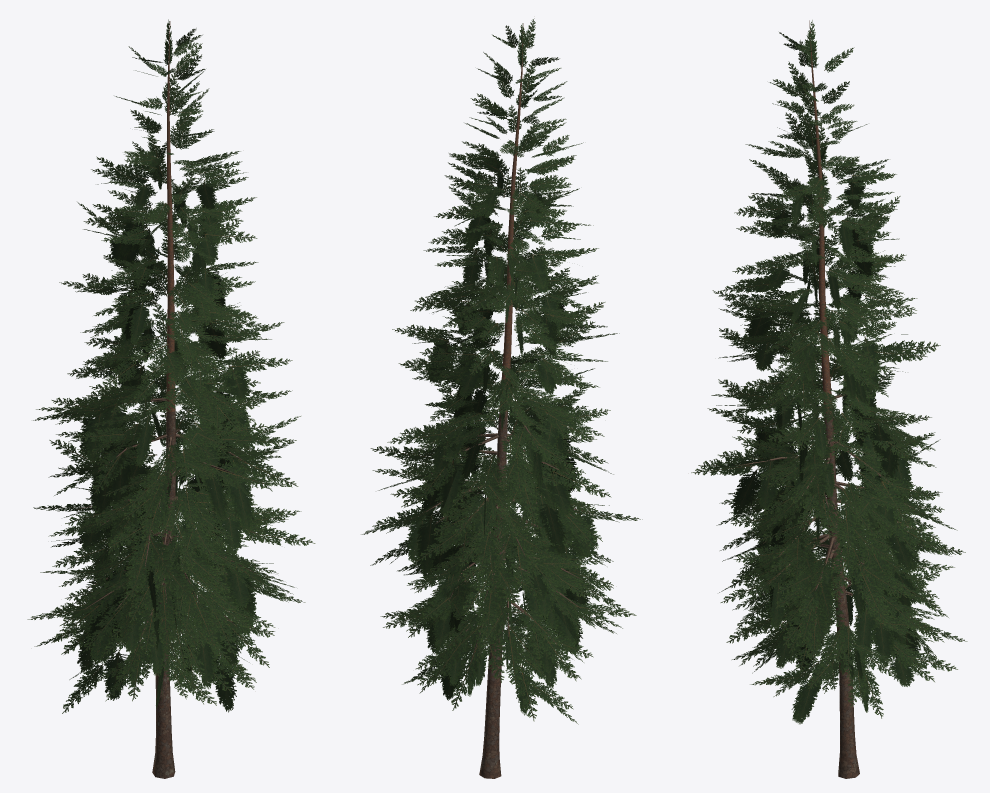
The model's file is spruce_b_LOD1.glb.
The picture shows the model from 3 angles, left to right: view 1: azimuth 30°, elevation 25°; view 2: azimuth 150°, elevation 25°; view 3: azimuth 270°, elevation 25°; orthographic projection. The views are drawn at different scales.
Parts seen in each view (by area): view 1: Spruce_B_LOD1_Foliage, Spruce_B_LOD1_Bark; view 2: Spruce_B_LOD1_Foliage, Spruce_B_LOD1_Bark; view 3: Spruce_B_LOD1_Foliage, Spruce_B_LOD1_Bark.
Part boxes in pixels (x1,y1,x2,y2): Spruce_B_LOD1_Foliage: [27, 19, 315, 713]; Spruce_B_LOD1_Bark: [76, 21, 261, 778]; Spruce_B_LOD1_Foliage: [361, 18, 642, 724]; Spruce_B_LOD1_Bark: [412, 23, 593, 778]; Spruce_B_LOD1_Foliage: [691, 20, 967, 724]; Spruce_B_LOD1_Bark: [738, 20, 923, 778].
Size of the model in its own units: 8.85 by 23.11 by 8.24.
Materials: 2 (2 with a texture image).
